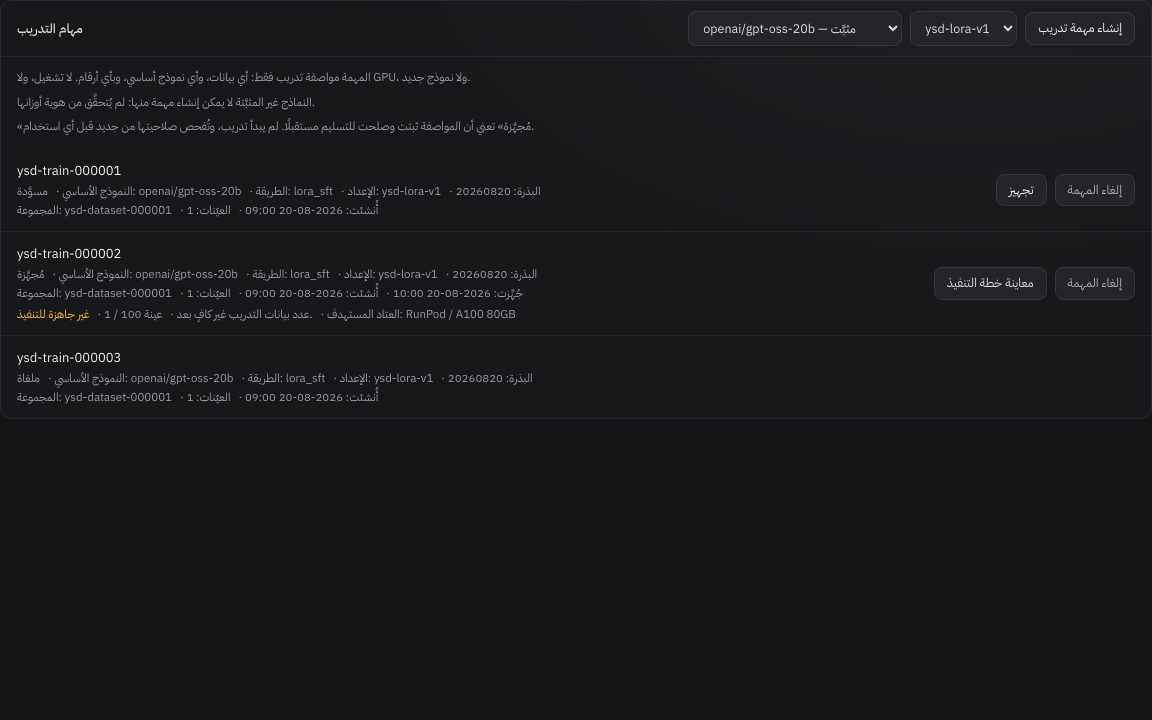
Test: ★ (٢″) الخطّة — قراءةٌ بلا تنفيذ › ★ ★ المعاينة تُرسل `GET` وتعرض العتاد والمكدّس
The image size is (1152, 720).
Click the button "معاينة خطة التنفيذ" at (990,284), box x1=934 y1=267 x2=1047 y2=300
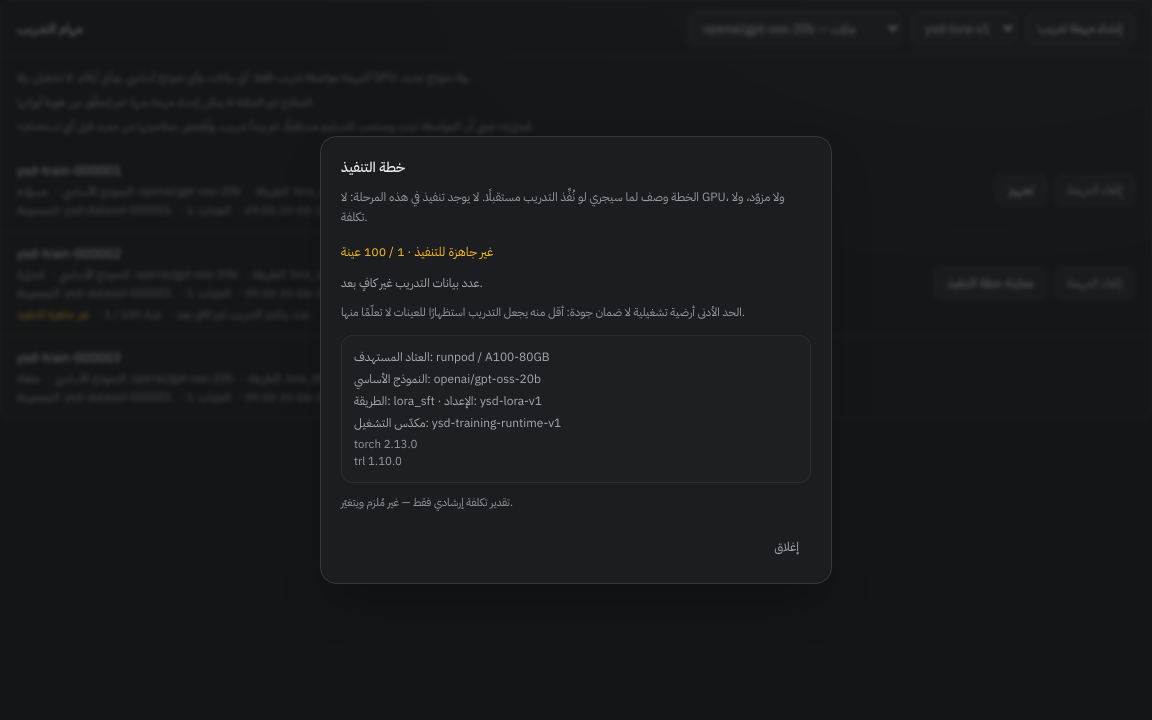
Result: the text "A100-80GB" is shown at x1=485 y1=348 x2=550 y2=366
Result: the text "torch 2.13.0" is shown at x1=354 y1=436 x2=418 y2=453
Result: the text "ysd-training-runtime-v1" is shown at x1=432 y1=414 x2=561 y2=432
